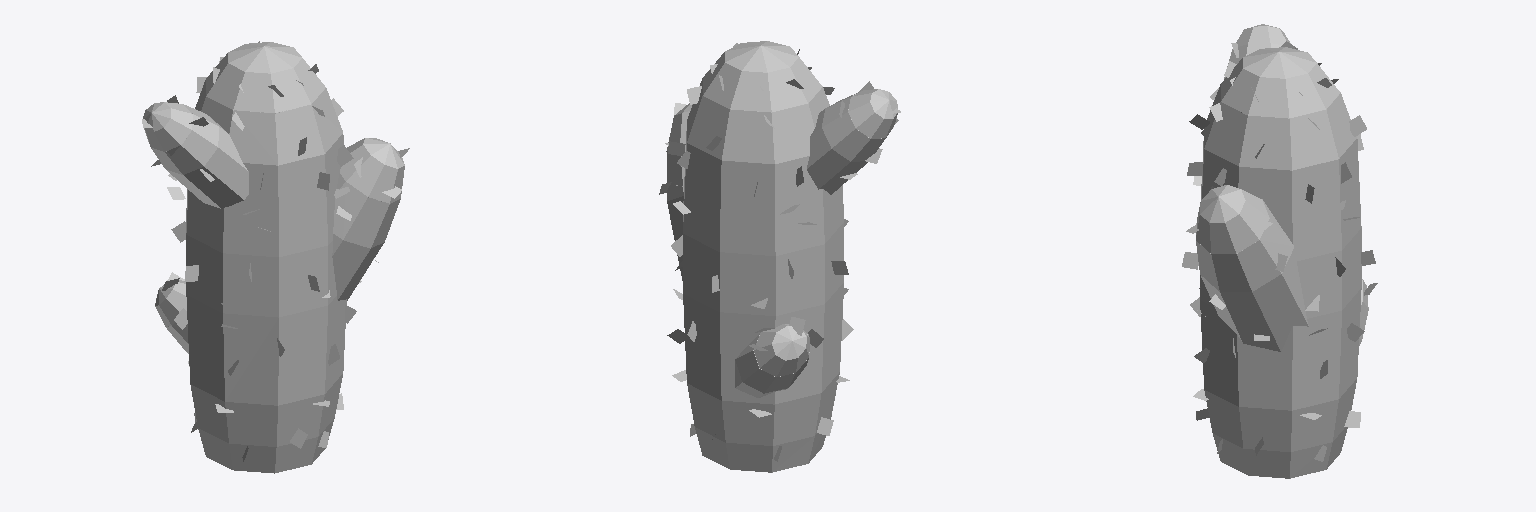
The model's file is Cactus.obj.
3 views of the same model, side by side, from view 1: azimuth 30°, elevation 25°; view 2: azimuth 150°, elevation 25°; view 3: azimuth 270°, elevation 25° (orthographic).
Parts seen in each view (by area): view 1: cylinder, ARM 1, ARM 2, sphere, cuboid, ARM 3, plane; view 2: cylinder, sphere, ARM 2, ARM 3, cuboid, ARM 1, plane; view 3: cylinder, ARM 1, sphere, cuboid, ARM 2, plane.
Part boxes in pixels (x1,y1,x2,y2): cylinder: (186, 80, 346, 473); ARM 1: (332, 138, 404, 300); ARM 2: (143, 102, 248, 208); sphere: (206, 42, 325, 113); cuboid: (167, 41, 356, 461); ARM 3: (155, 280, 188, 353); plane: (142, 95, 409, 290); cylinder: (683, 78, 843, 472); sphere: (703, 41, 822, 111); ARM 2: (807, 89, 897, 194); ARM 3: (735, 324, 809, 397); cuboid: (667, 43, 853, 461); ARM 1: (666, 103, 692, 280); plane: (659, 81, 900, 350); cylinder: (1200, 84, 1361, 478); ARM 1: (1196, 185, 1308, 351); sphere: (1221, 47, 1339, 118); cuboid: (1182, 48, 1375, 461); ARM 2: (1224, 24, 1290, 78); plane: (1186, 41, 1377, 340).
Bounding box in the file's own units: 2.16 × 3.47 × 1.49.